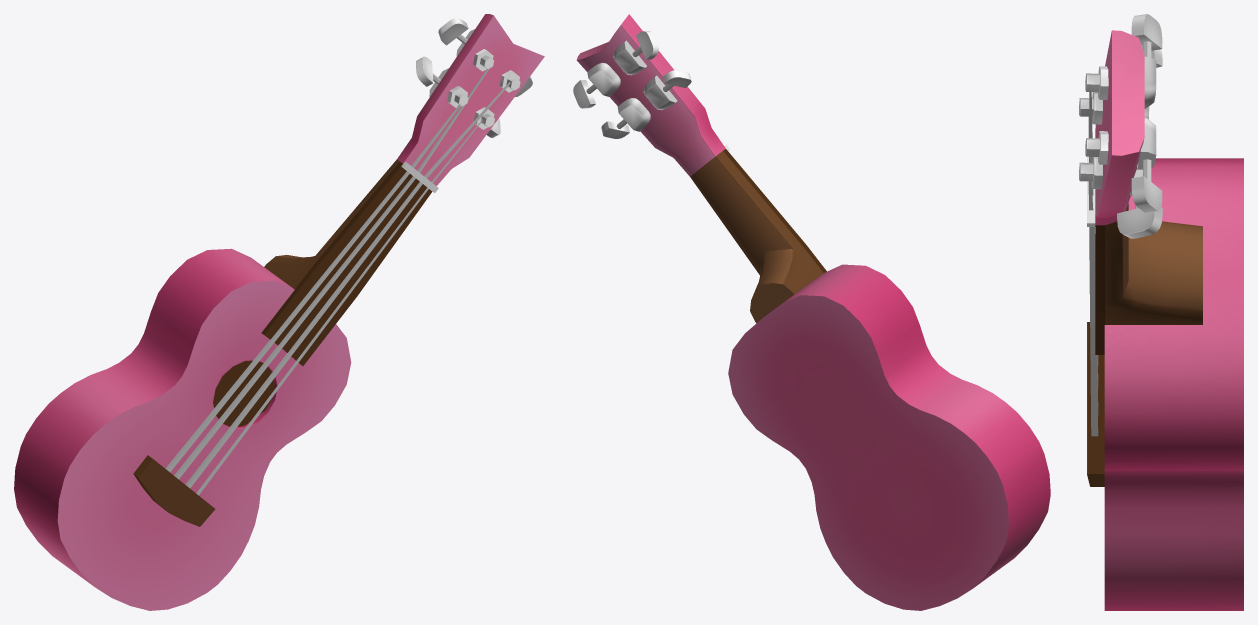
File: guitar.gltf
3 views of the same model, side by side, from view 1: azimuth 30°, elevation 25°; view 2: azimuth 150°, elevation 25°; view 3: azimuth 270°, elevation 25° (orthographic). The views are drawn at different scales.
Parts seen in each view (by area): view 1: guitar; view 2: guitar; view 3: guitar.
Part boxes in pixels (<box>): guitar: <box>14,14,544,610</box>; guitar: <box>573,14,1050,610</box>; guitar: <box>1079,14,1243,610</box>.
Bounding box in the file's own units: 1.4 × 1.4 × 0.2553.
1 material, 1 textured.
